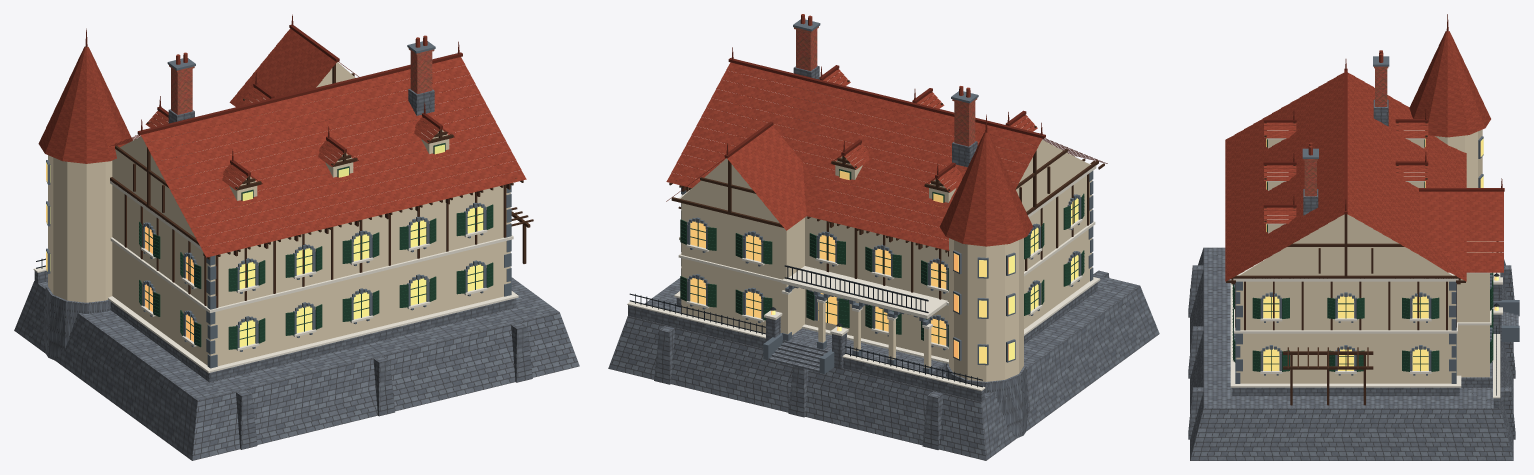
Rendered from fv_tp_02_sammy_tran_phu_normandy_grand_manor.glb.
3 views of the same model, side by side, from view 1: azimuth 30°, elevation 25°; view 2: azimuth 150°, elevation 25°; view 3: azimuth 270°, elevation 25° (orthographic). The views are drawn at different scales.
Visible parts, largest first — view 1: Normandy_Brittany_Layered_Roof, Foundation_Skirt_Neg3p5m, Villa_Stucco_Walls, PineGreen_Louvered_Shutters, Molded_Cornices_And_Sills, Stone_Quoins_And_Arches, Exposed_Timber_Trusses_And_Rafters, Warm_Night_Windows_20h00_Blend, Roof_Ridges_Caps_And_Finials, Brick_Chimney_Stacks; view 2: Foundation_Skirt_Neg3p5m, Normandy_Brittany_Layered_Roof, Villa_Stucco_Walls, Molded_Cornices_And_Sills, Stone_Quoins_And_Arches, PineGreen_Louvered_Shutters, Warm_Night_Windows_20h00_Blend, Exposed_Timber_Trusses_And_Rafters, Roof_Ridges_Caps_And_Finials, Wrought_Iron_Balustrades_And_Gate, Brick_Chimney_Stacks; view 3: Normandy_Brittany_Layered_Roof, Foundation_Skirt_Neg3p5m, Villa_Stucco_Walls, Molded_Cornices_And_Sills, Exposed_Timber_Trusses_And_Rafters, Stone_Quoins_And_Arches, PineGreen_Louvered_Shutters, Warm_Night_Windows_20h00_Blend, Roof_Ridges_Caps_And_Finials, Brick_Chimney_Stacks.
Boxes of the visible parts, x1,y1,x2,y2 form: Normandy_Brittany_Layered_Roof: (38, 28, 526, 257); Foundation_Skirt_Neg3p5m: (14, 88, 579, 460); Villa_Stucco_Walls: (48, 62, 510, 366); PineGreen_Louvered_Shutters: (139, 143, 493, 349); Molded_Cornices_And_Sills: (33, 98, 518, 373); Stone_Quoins_And_Arches: (46, 41, 511, 368); Exposed_Timber_Trusses_And_Rafters: (110, 64, 533, 307); Warm_Night_Windows_20h00_Blend: (46, 144, 483, 346); Roof_Ridges_Caps_And_Finials: (85, 14, 462, 183); Brick_Chimney_Stacks: (169, 48, 434, 114); Foundation_Skirt_Neg3p5m: (608, 65, 1159, 460); Normandy_Brittany_Layered_Roof: (666, 14, 1042, 250); Villa_Stucco_Walls: (680, 98, 1092, 381); Molded_Cornices_And_Sills: (627, 79, 1100, 391); Stone_Quoins_And_Arches: (681, 19, 1093, 373); PineGreen_Louvered_Shutters: (680, 169, 1084, 347); Warm_Night_Windows_20h00_Blend: (690, 170, 1078, 363); Exposed_Timber_Trusses_And_Rafters: (669, 69, 1104, 299); Roof_Ridges_Caps_And_Finials: (666, 47, 1107, 201); Wrought_Iron_Balustrades_And_Gate: (629, 265, 982, 387); Brick_Chimney_Stacks: (794, 26, 977, 146); Normandy_Brittany_Layered_Roof: (1225, 31, 1503, 281); Foundation_Skirt_Neg3p5m: (1188, 99, 1518, 460); Villa_Stucco_Walls: (1236, 129, 1489, 383); Molded_Cornices_And_Sills: (1230, 130, 1502, 398); Exposed_Timber_Trusses_And_Rafters: (1226, 122, 1498, 405); Stone_Quoins_And_Arches: (1233, 56, 1519, 383); PineGreen_Louvered_Shutters: (1232, 139, 1493, 371); Warm_Night_Windows_20h00_Blend: (1263, 138, 1498, 370); Roof_Ridges_Caps_And_Finials: (1263, 14, 1504, 214); Brick_Chimney_Stacks: (1303, 66, 1388, 196).
Size of the model in its own units: 28.32 by 21.63 by 22.32.
12 materials, 3 textured.
